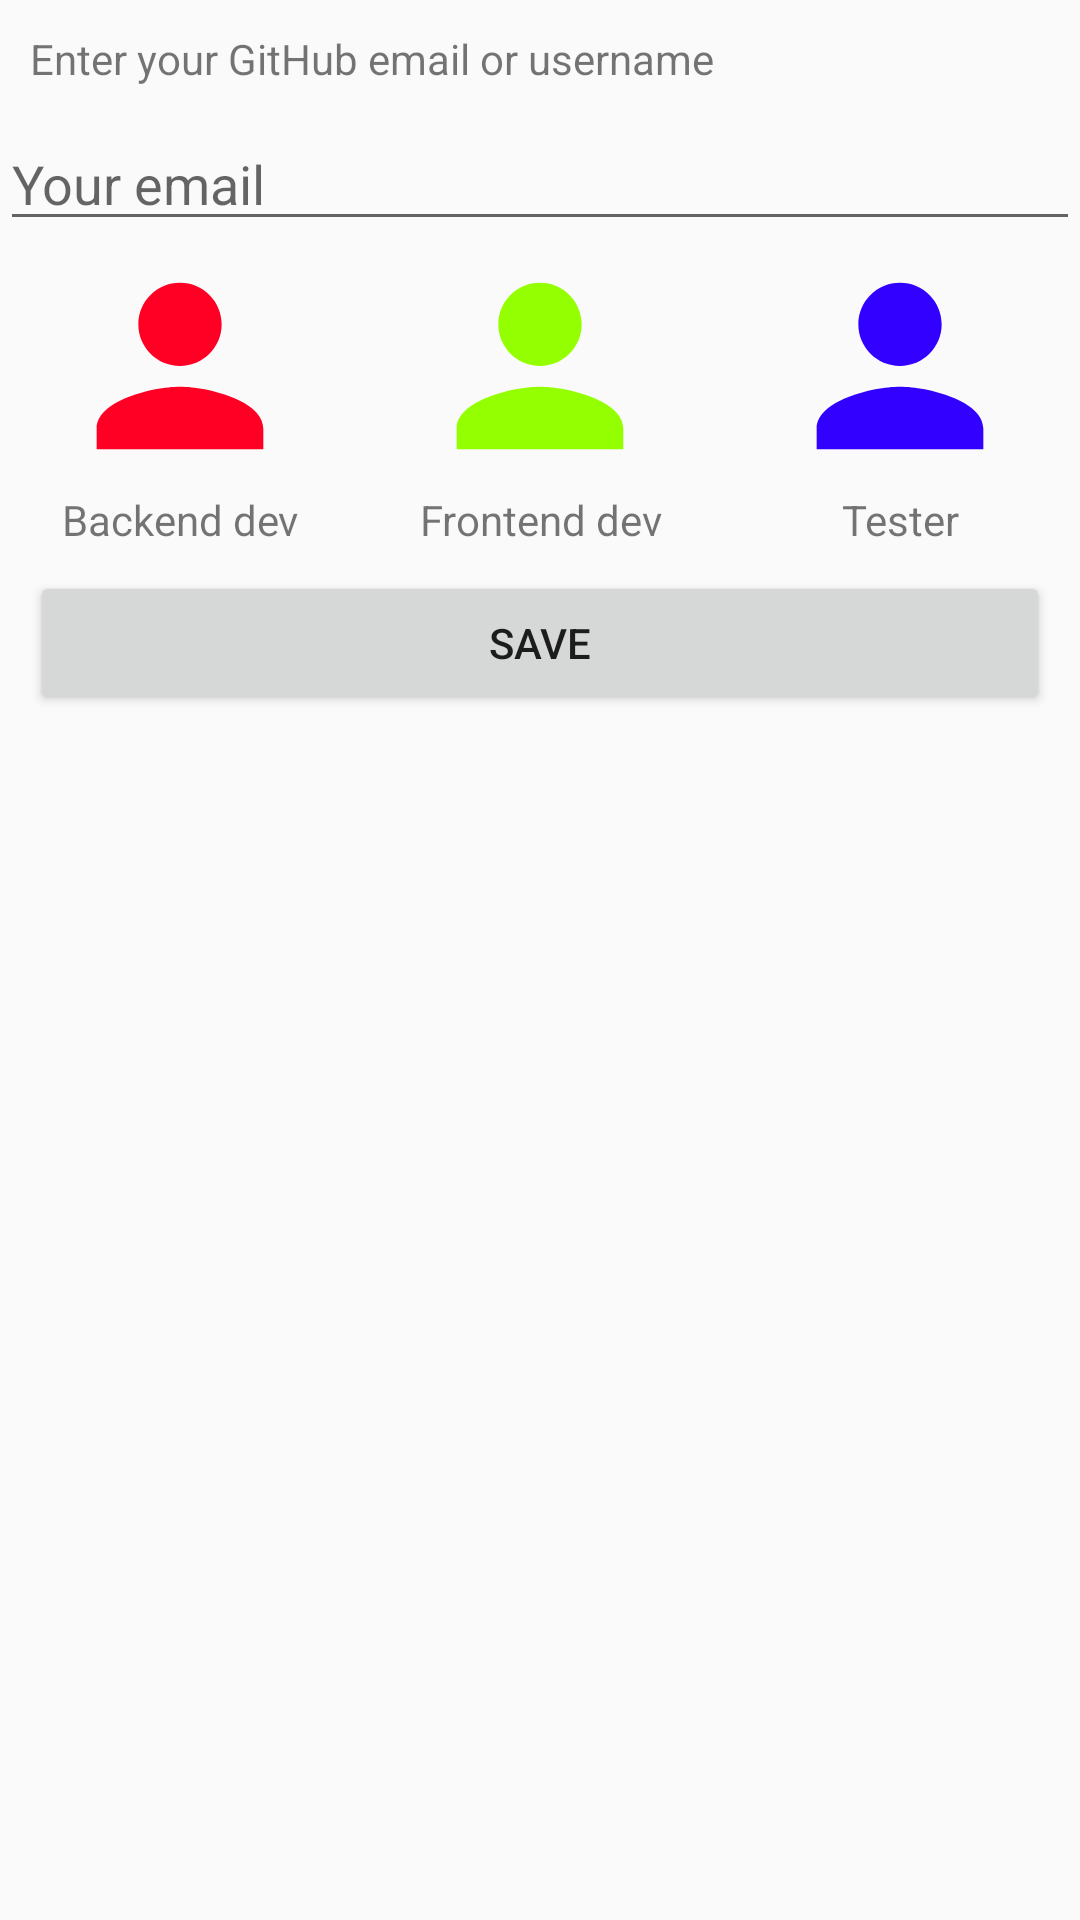

Icons on this 1080px×1920px Android screen, each with the point to tap as (x,y):
user: (180,366), (540,366), (900,366)
